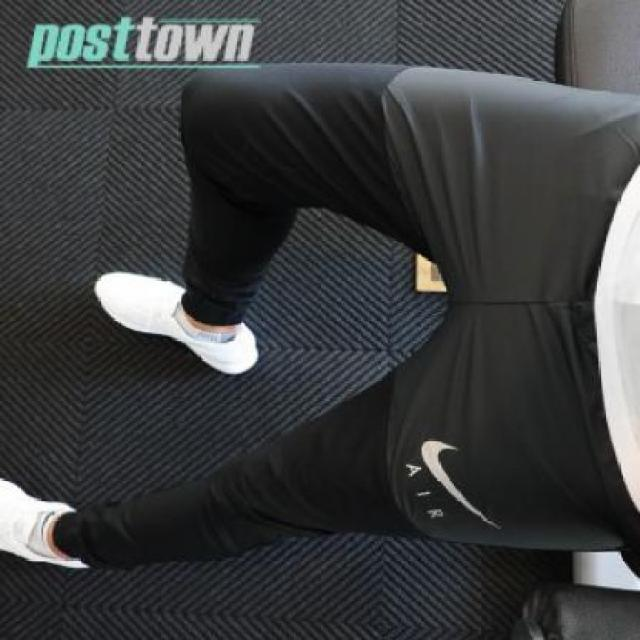Nike: (418, 438, 492, 524)
